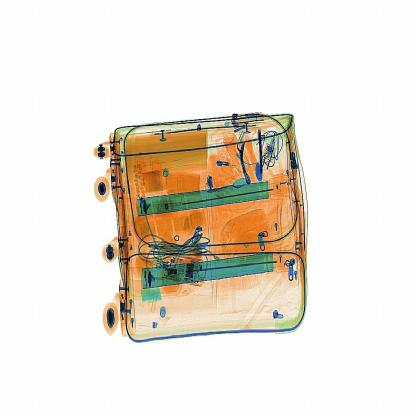knife: (250, 120, 274, 183)
